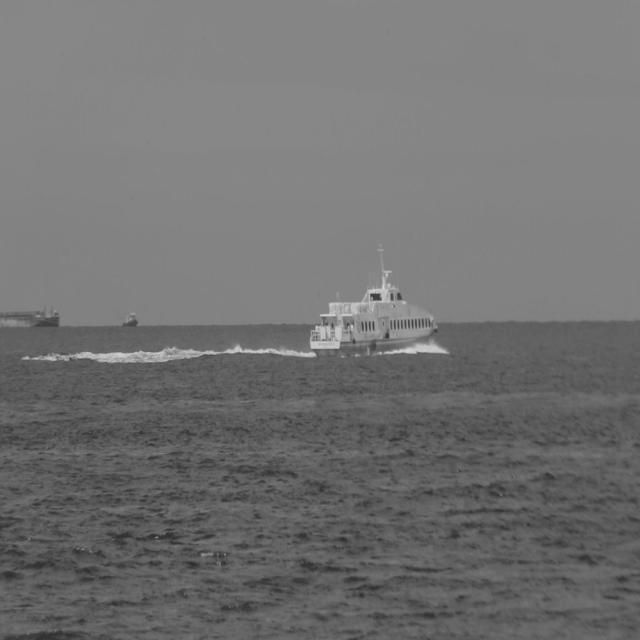ship: (307, 245, 442, 357), (1, 301, 62, 327)
